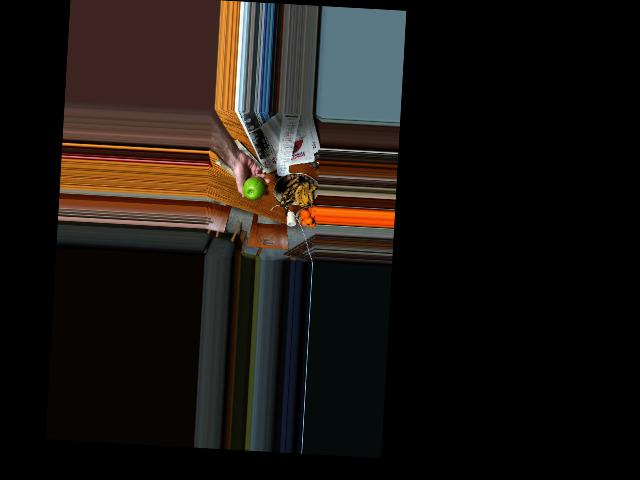apple: (242, 174, 267, 201)
